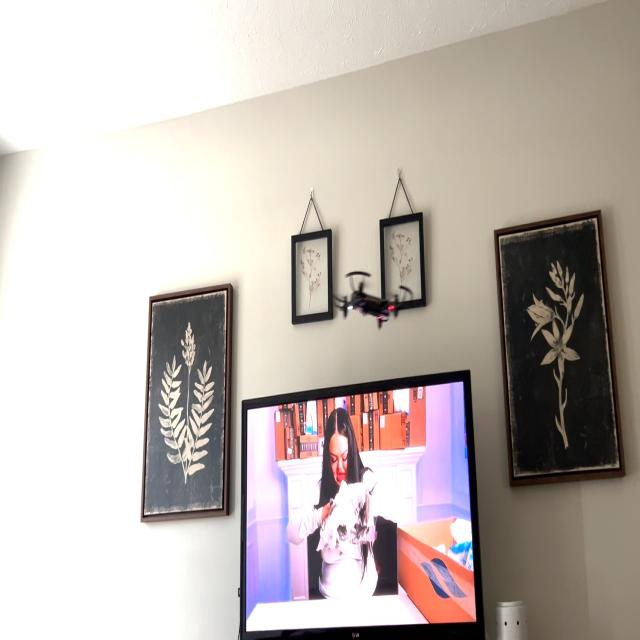drone: (322, 251, 414, 348)
